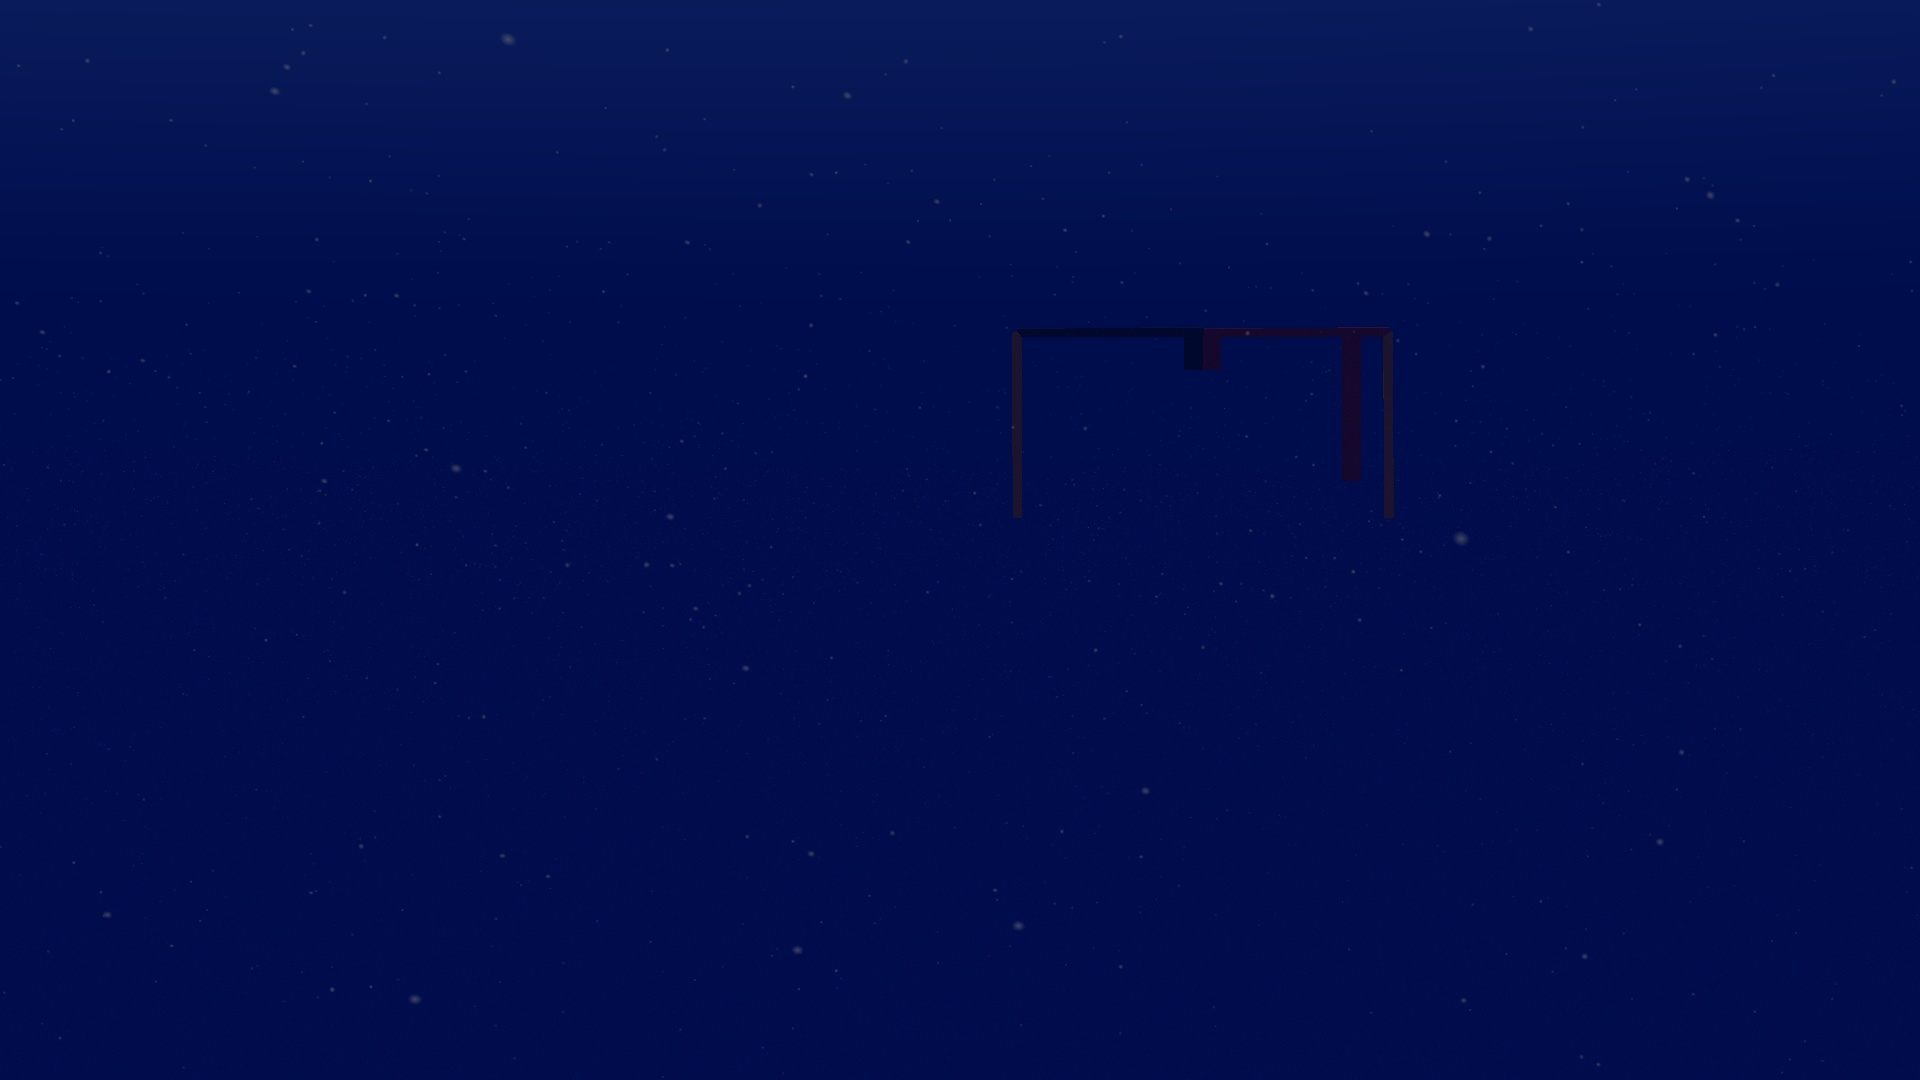Gate: (1004, 322, 1403, 535)
